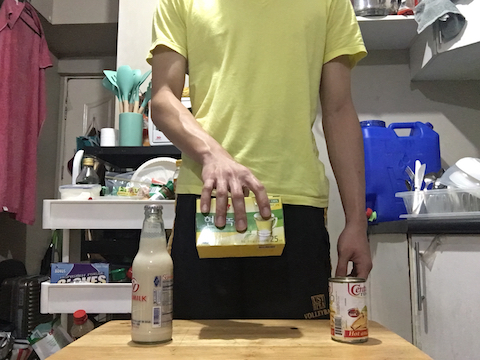bottle: (128, 202, 177, 345)
box: (194, 193, 288, 262)
can: (330, 275, 370, 347)
grab: (197, 166, 274, 232)
